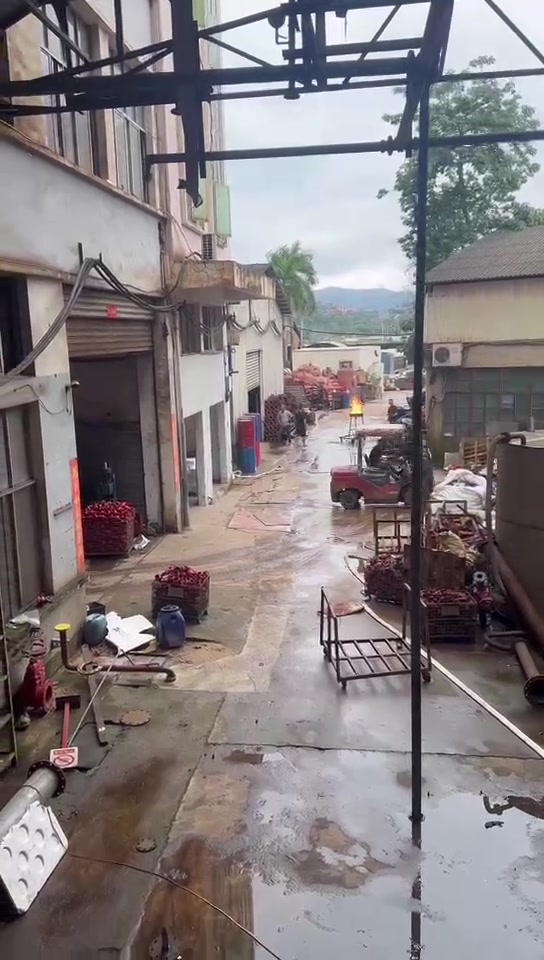fire: (348, 397, 361, 413)
